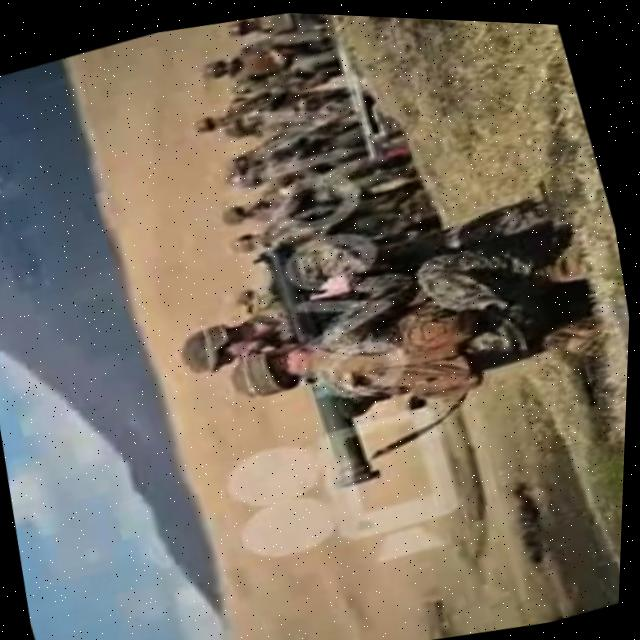rocket: (250, 225, 389, 497)
